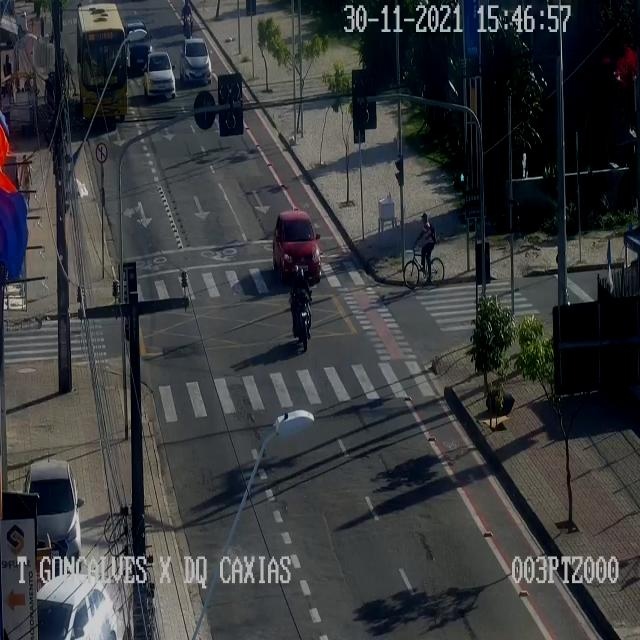Bus: (76, 3, 127, 120)
Car: (24, 460, 80, 570), (36, 573, 116, 639), (272, 210, 320, 280), (143, 52, 175, 98), (180, 37, 211, 83), (124, 21, 152, 68)
Motorcycle: (290, 264, 312, 349), (183, 1, 196, 42)
